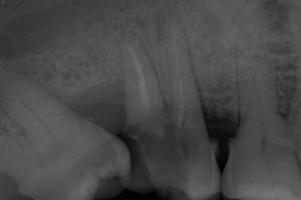Furcation Involvement: (157, 4, 181, 44), (0, 32, 18, 61)
